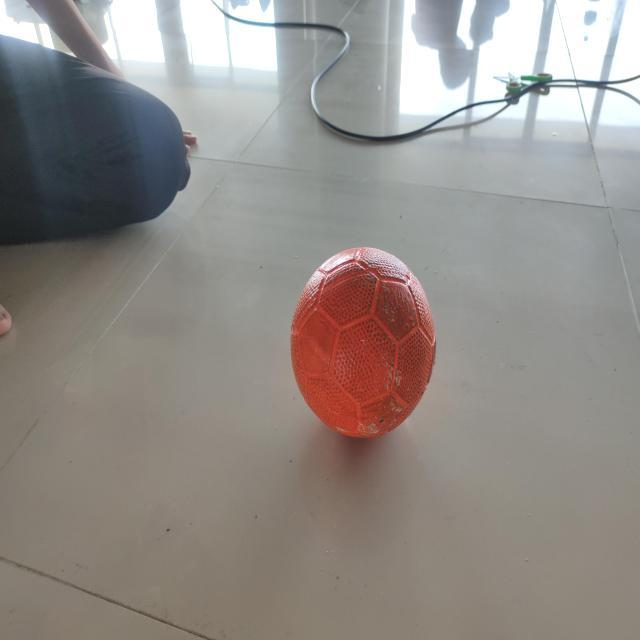bola: (274, 234, 456, 452)
